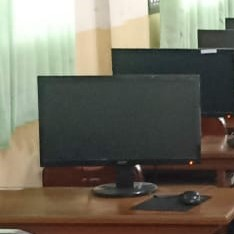monitor: (37, 74, 202, 167), (111, 48, 234, 116)
